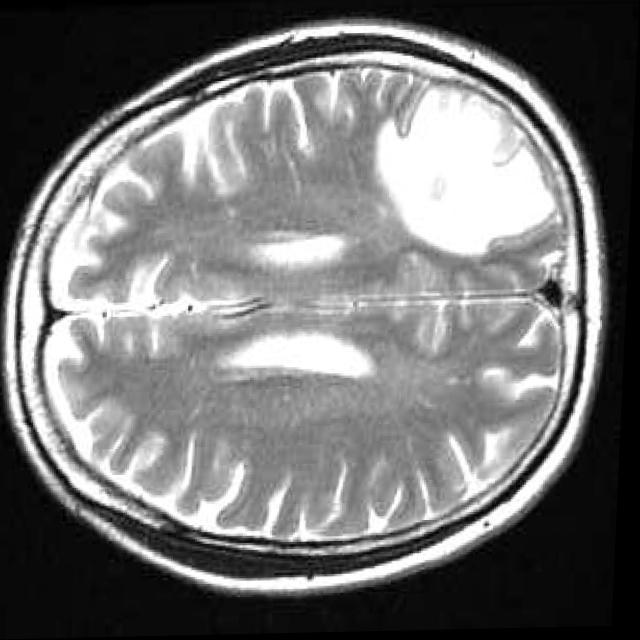Tumor: (381, 85, 557, 256)
